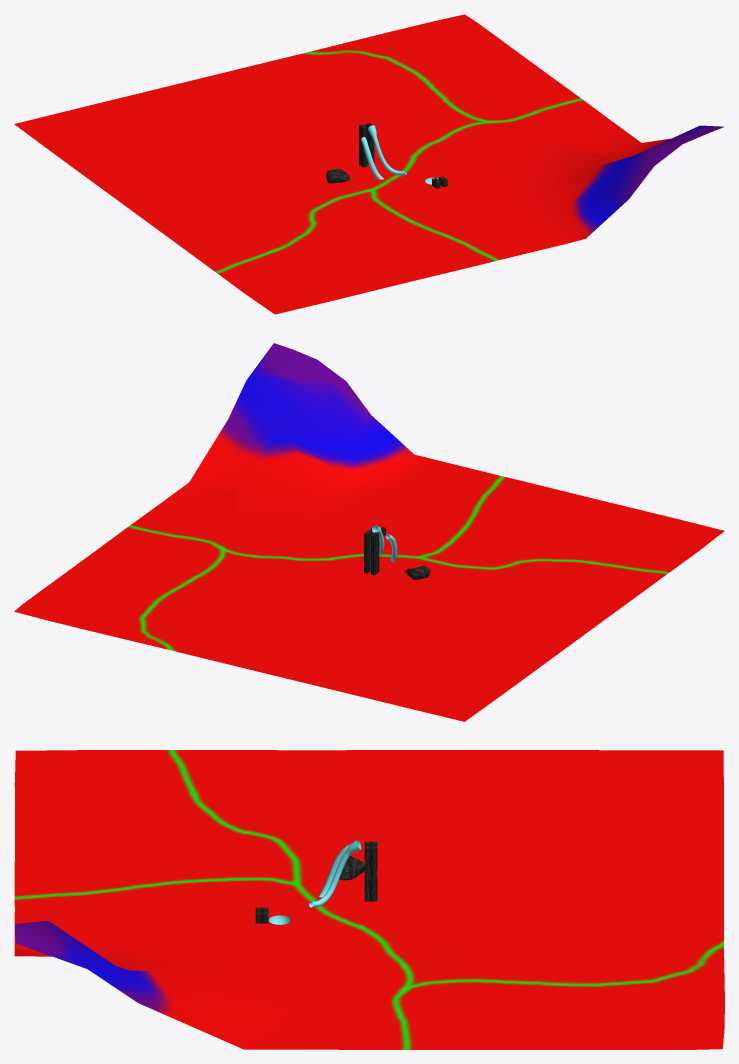
Rendered from zone0.glb.
3 renders of one model, top to bottom at view 1: azimuth 30°, elevation 25°; view 2: azimuth 150°, elevation 25°; view 3: azimuth 270°, elevation 25°, orthographic. The views are drawn at different scales.
Visible parts, largest first — view 1: terrainStart, slider; view 2: terrainStart, slider; view 3: terrainStart, slider, toboggan.
Boxes of the visible parts, x1=… form: terrainStart: x1=14, y1=14, x2=724, y2=314; slider: x1=359, y1=122, x2=447, y2=188; terrainStart: x1=14, y1=343, x2=724, y2=721; slider: x1=364, y1=525, x2=385, y2=575; terrainStart: x1=14, y1=750, x2=724, y2=1049; slider: x1=255, y1=841, x2=377, y2=923; toboggan: x1=309, y1=839, x2=361, y2=907.
Size of the model in its own units: 957 by 171 by 958.
Materials: 3 (2 with a texture image).
